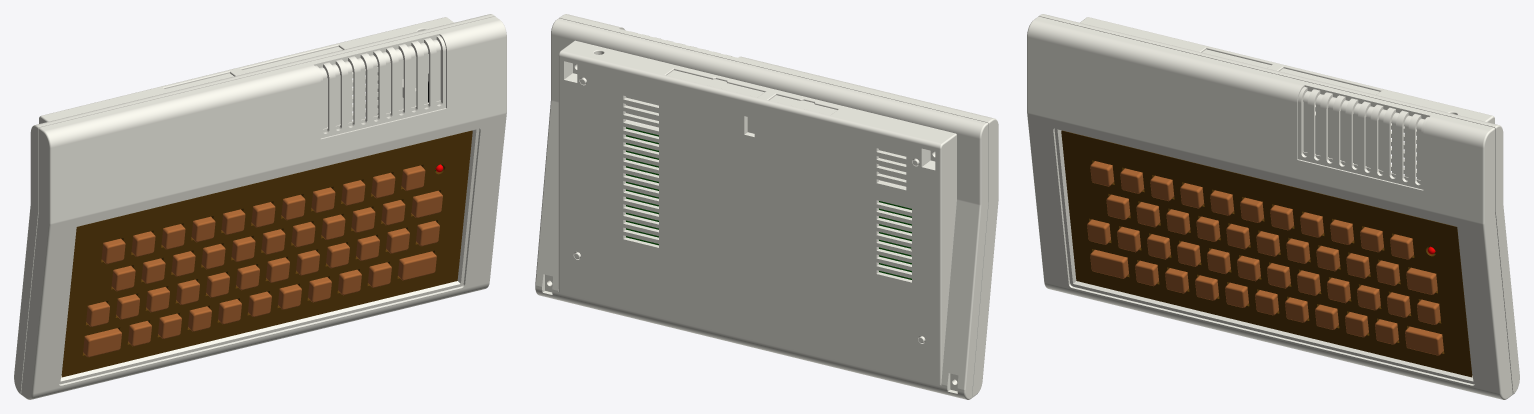
The picture shows the model from 3 angles, left to right: view 1: azimuth 30°, elevation 25°; view 2: azimuth 150°, elevation 25°; view 3: azimuth 330°, elevation 25°; orthographic projection. The views are drawn at different scales.
Parts seen in each view (by area): view 1: 01 Gehäuse oben hinten, 02 Tastatur Rahmen, 03b Tastatur Tasten 5.5, 01 Gehäuse oben vorn, 04 Gehäuse unten; view 2: 04 Gehäuse unten, 01 Gehäuse oben hinten, 01 Gehäuse oben vorn, Platine; view 3: 01 Gehäuse oben hinten, 02 Tastatur Rahmen, 03b Tastatur Tasten 5.5, 01 Gehäuse oben vorn, 04 Gehäuse unten.
Part boxes in pixels (x1,y1,x2,y2): 01 Gehäuse oben hinten: (38, 16, 506, 223); 02 Tastatur Rahmen: (61, 130, 472, 377); 03b Tastatur Tasten 5.5: (83, 165, 442, 357); 01 Gehäuse oben vorn: (21, 113, 506, 399); 04 Gehäuse unten: (14, 14, 495, 394); 04 Gehäuse unten: (535, 18, 988, 399); 01 Gehäuse oben hinten: (559, 14, 998, 203); 01 Gehäuse oben vorn: (626, 104, 998, 397); Platine: (626, 127, 911, 279); 01 Gehäuse oben hinten: (1027, 16, 1495, 223); 02 Tastatur Rahmen: (1061, 130, 1472, 377); 03b Tastatur Tasten 5.5: (1087, 161, 1443, 355); 01 Gehäuse oben vorn: (1027, 113, 1512, 399); 04 Gehäuse unten: (1038, 14, 1519, 394).
Size of the model in its own units: 290 by 170 by 41.34.
